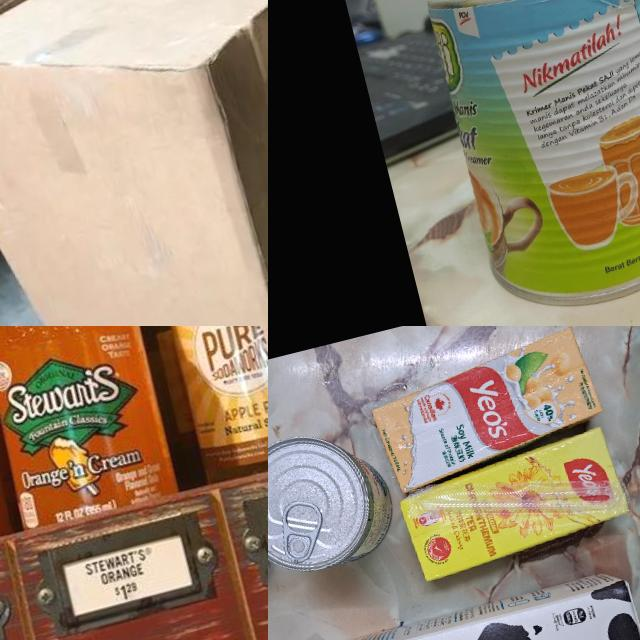aba de lata: (271, 496, 330, 564)
caixinha: (365, 326, 610, 493), (393, 422, 638, 584), (268, 567, 640, 640)
garrafa de vidro: (0, 326, 179, 529), (103, 326, 268, 483)
lata: (392, 0, 640, 326), (268, 417, 402, 588)
papelão: (0, 0, 268, 326)
